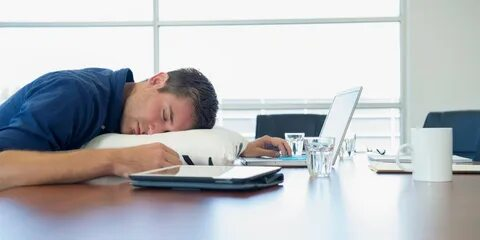sleep: (1, 66, 270, 188)
